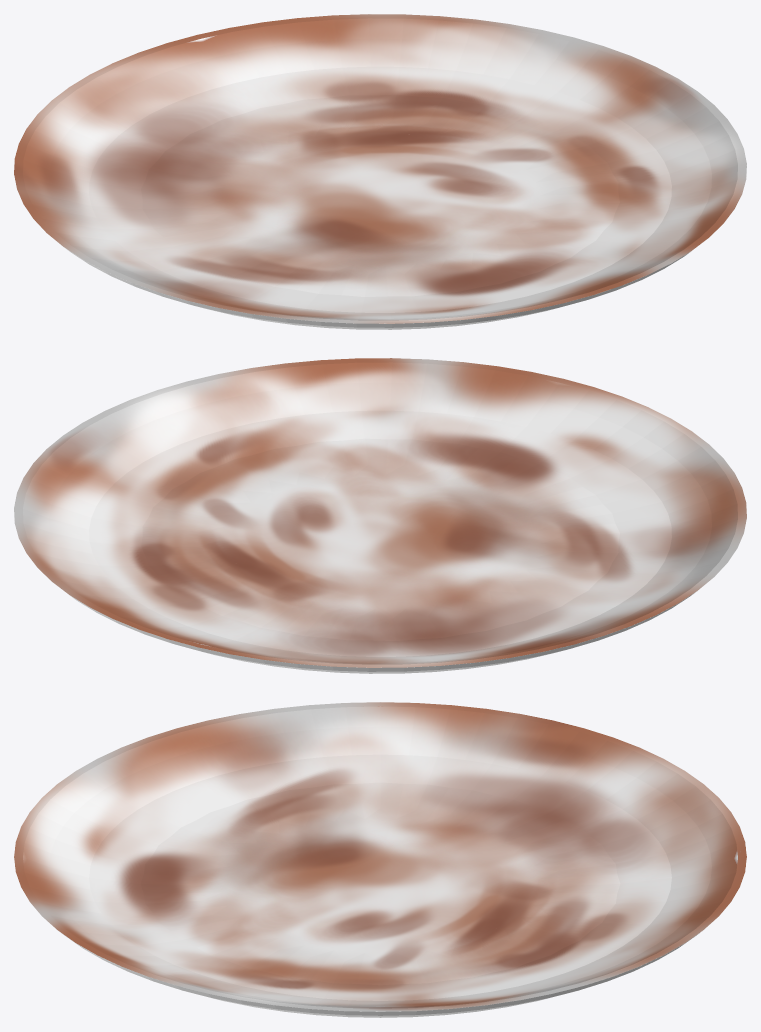
Rendered from dirty plate.fbx.
The picture shows the model from 3 angles, top to bottom: view 1: azimuth 30°, elevation 25°; view 2: azimuth 150°, elevation 25°; view 3: azimuth 270°, elevation 25°; orthographic projection.
Visible parts, largest first — view 1: Cylinder; view 2: Cylinder; view 3: Cylinder.
Boxes of the visible parts, x1,y1,x2,y2 form: Cylinder: (14, 14, 746, 329); Cylinder: (14, 358, 746, 673); Cylinder: (14, 702, 746, 1017).
Size of the model in its own units: 391 by 37.9 by 391.
